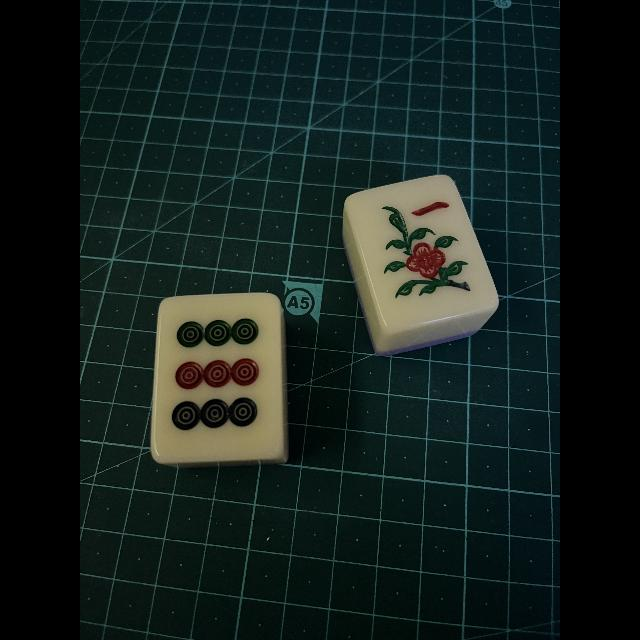d9: (157, 298, 281, 458)
s1-s: (362, 180, 488, 326)
